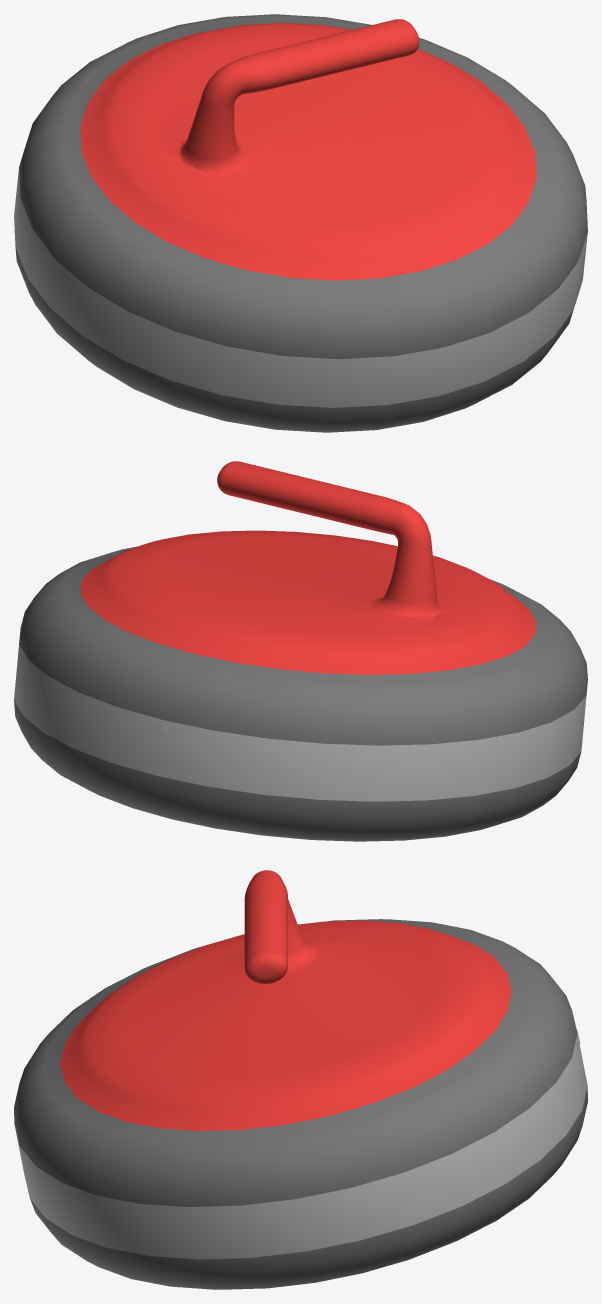
Rendered from curling_stone.fbx.
3 views of the same model, one above another, from view 1: azimuth 30°, elevation 25°; view 2: azimuth 150°, elevation 25°; view 3: azimuth 270°, elevation 25° (orthographic).
Visible parts, largest first — view 1: Cylinder.479; view 2: Cylinder.479; view 3: Cylinder.479.
Boxes of the visible parts, <box> form: Cylinder.479: <box>14,14,587,432</box>; Cylinder.479: <box>14,461,587,841</box>; Cylinder.479: <box>14,870,587,1289</box>.
Size of the model in its own units: 232 by 137 by 233.
1 material, 1 textured.
